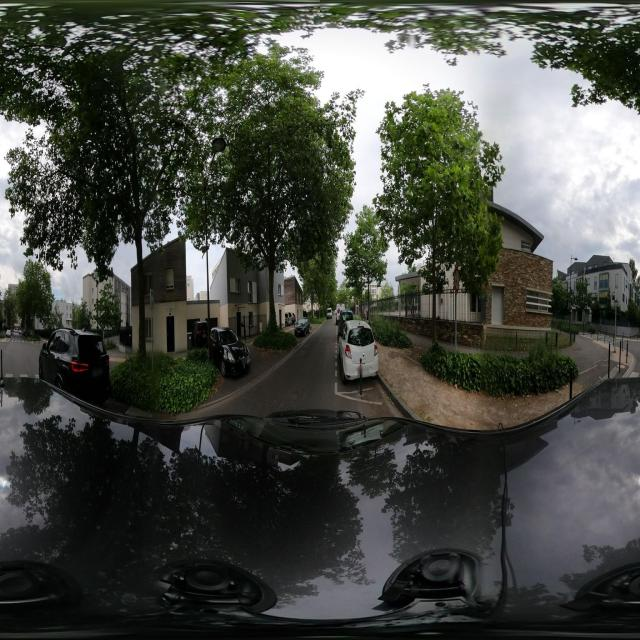car: (38, 327, 111, 402), (336, 318, 379, 386), (209, 326, 250, 378), (294, 316, 310, 336), (326, 306, 332, 321)
